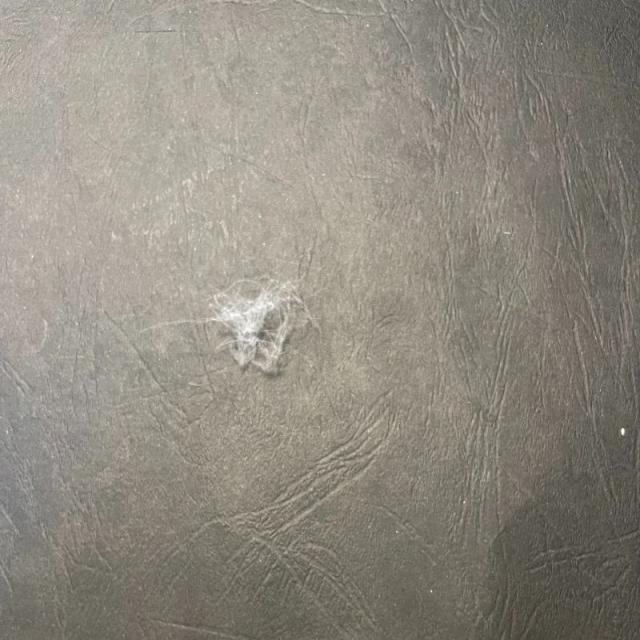feather: (197, 278, 301, 376)
